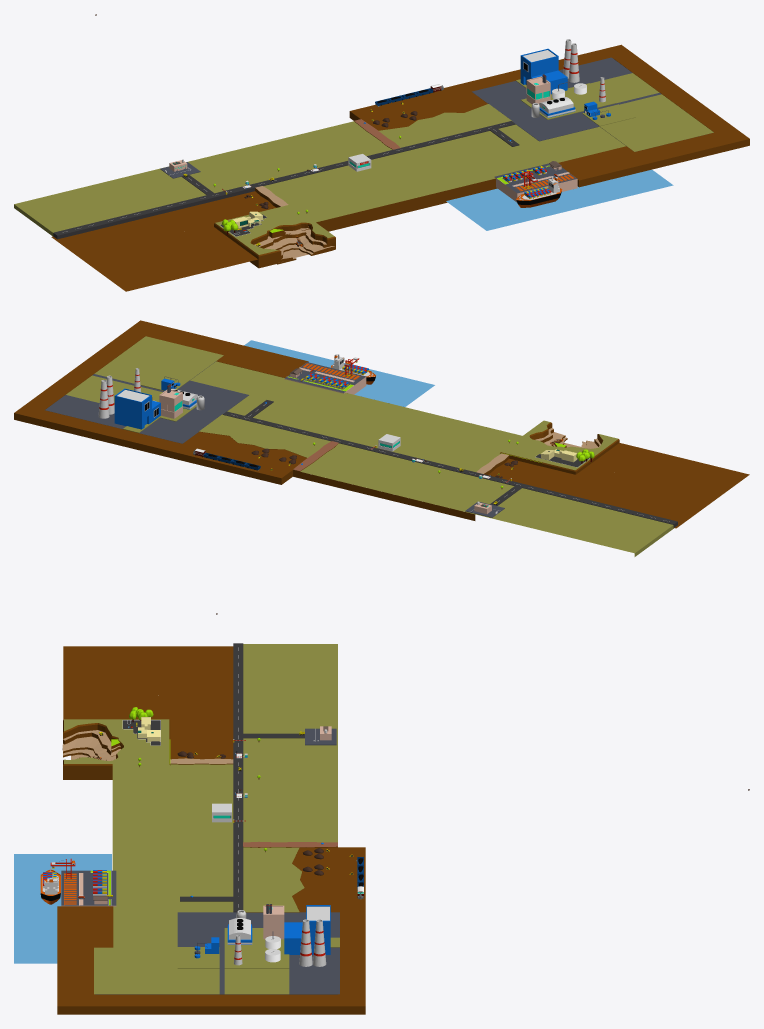
3 views of the same model, one above another, from view 1: azimuth 30°, elevation 25°; view 2: azimuth 150°, elevation 25°; view 3: azimuth 270°, elevation 25° (orthographic). The views are drawn at different scales.
Parts seen in each view (by area): view 1: Grass_Ground.001, Grass_Ground, Steel_Plant, Mud_Ground, Plane.001, ExcavationPoint, Road, Ship_Container, Mine_Buildings; view 2: Grass_Ground.001, Grass_Ground, Steel_Plant, Mud_Ground, ExcavationPoint, Plane.001, Road, Ship_Container, Mine_Buildings; view 3: Grass_Ground.001, Grass_Ground, Steel_Plant, Mud_Ground, Plane.001, ExcavationPoint, Road, Ship_Container, Mine_Buildings.
Boxes of the visible parts, x1,y1,x2,y2 form: Grass_Ground.001: (14,44,749,236); Grass_Ground: (263,124,625,231); Steel_Plant: (472,39,713,151); Mud_Ground: (51,191,276,291); Plane.001: (446,169,673,230); ExcavationPoint: (214,204,335,268); Road: (53,121,515,239); Ship_Container: (494,161,577,207); Mine_Buildings: (220,211,266,236); Grass_Ground.001: (14,320,673,556); Grass_Ground: (190,361,521,471); Steel_Plant: (45,336,248,443); Mud_Ground: (488,443,749,528); ExcavationPoint: (500,420,619,474); Plane.001: (244,340,434,406); Road: (222,411,677,527); Ship_Container: (284,354,375,394); Mine_Buildings: (535,449,589,467); Grass_Ground.001: (57,644,365,1014); Grass_Ground: (112,764,233,947); Steel_Plant: (94,904,339,994); Mud_Ground: (63,646,233,759); Plane.001: (14,854,111,963); ExcavationPoint: (62,719,170,779); Road: (233,643,243,912); Ship_Container: (40,858,116,906); Mine_Buildings: (122,717,160,745).
Bounding box in the file's own units: 595 × 45.61 × 509.
